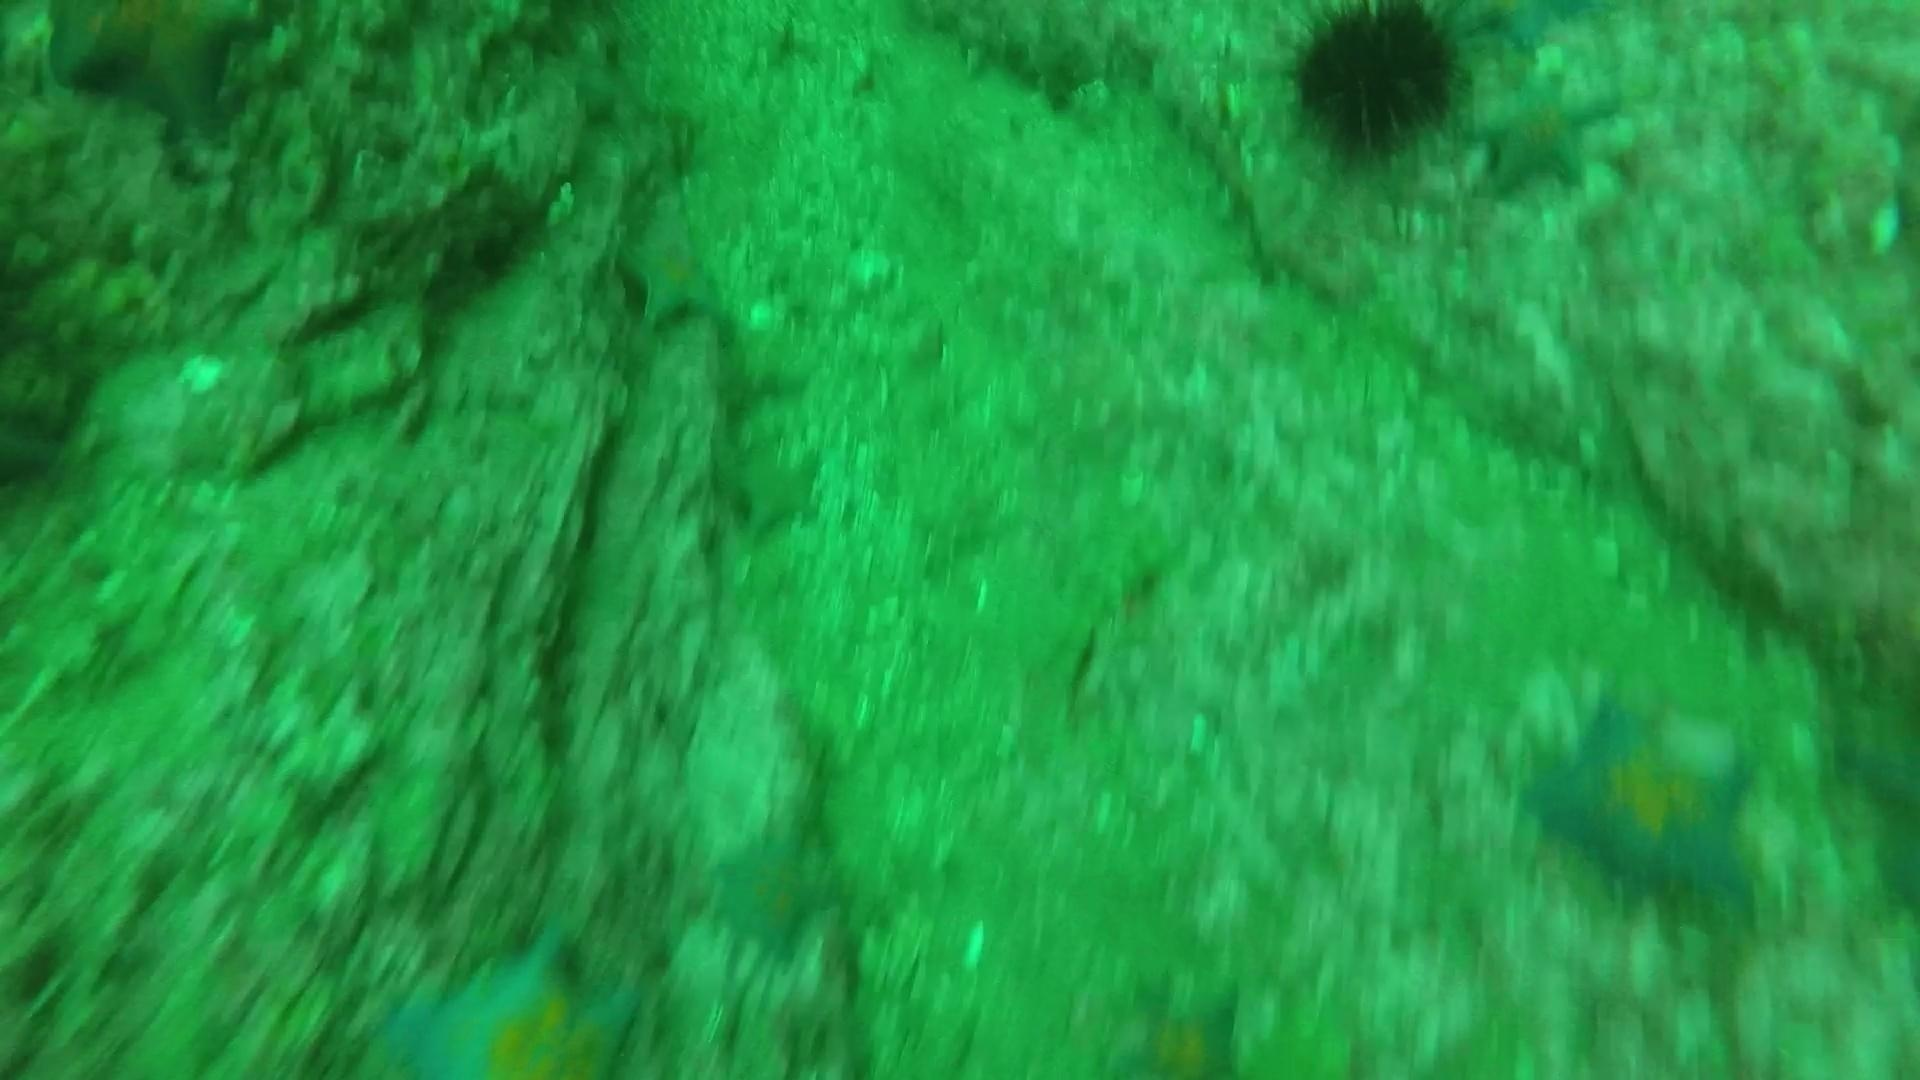echinus: (1276, 1, 1472, 164)
starfish: (1516, 690, 1770, 919), (364, 919, 650, 1075), (36, 3, 276, 140), (1462, 59, 1629, 200), (699, 819, 845, 964), (609, 193, 738, 335), (1098, 969, 1255, 1076), (713, 430, 832, 542), (1445, 1, 1597, 55)
